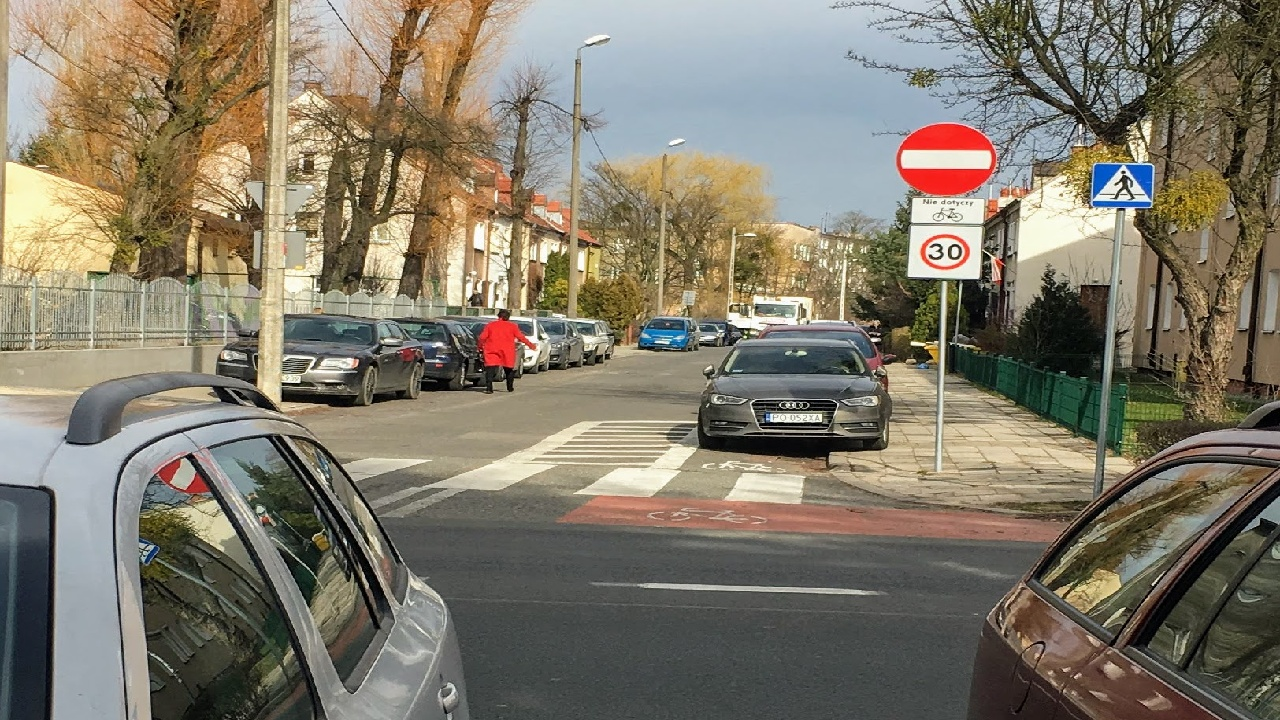B2: (897, 122, 996, 196)
B43_30: (906, 223, 984, 280)
D6: (1092, 161, 1155, 208)
